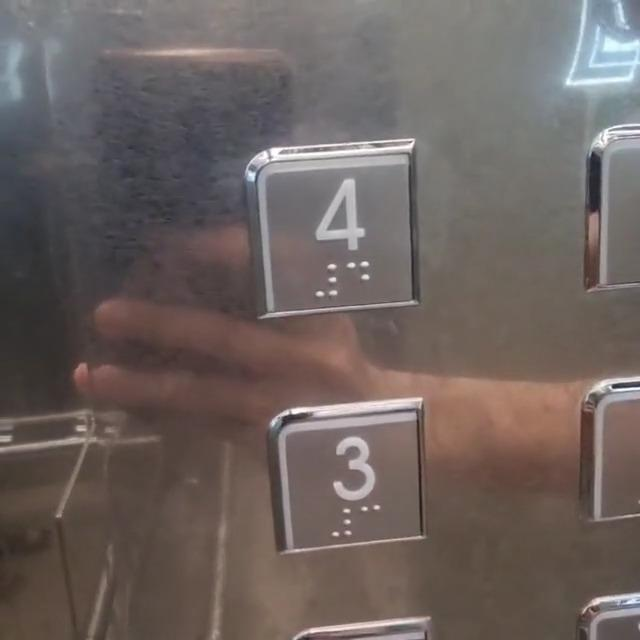button: (237, 147, 434, 311), (272, 408, 442, 545)
